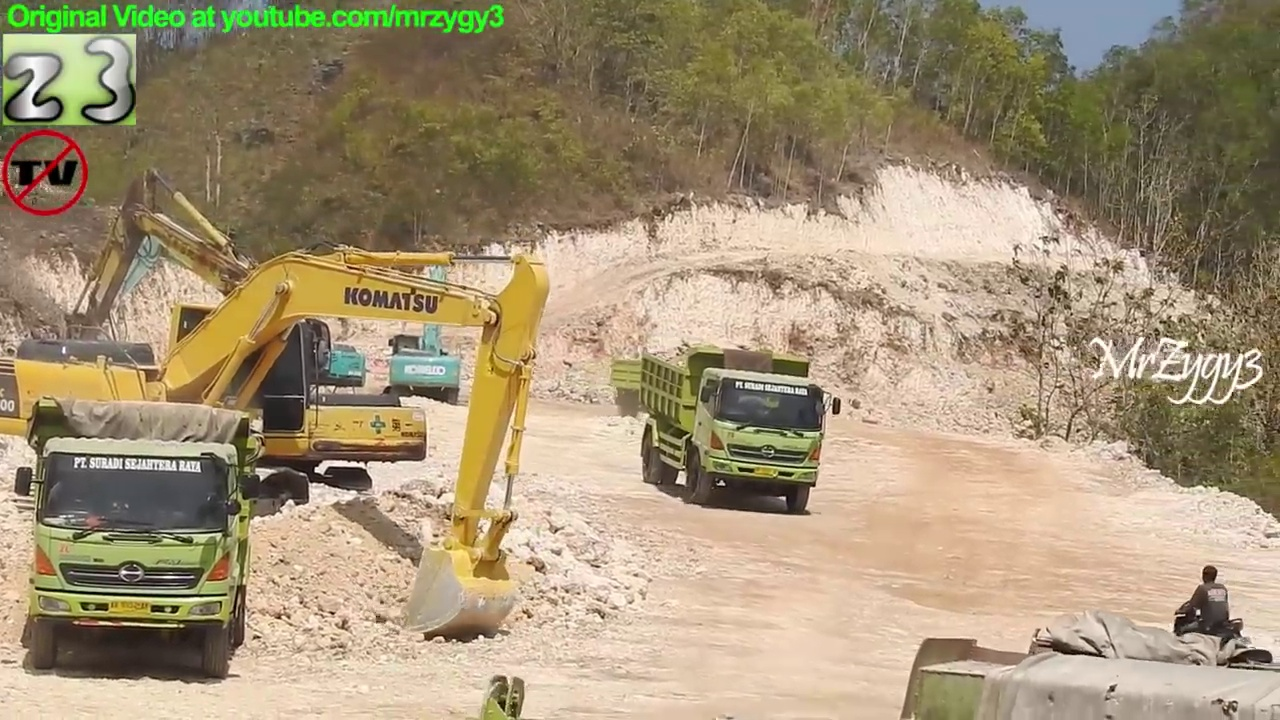excavator: (2, 236, 557, 644), (55, 162, 431, 516), (71, 221, 378, 438), (377, 257, 469, 419)
truck: (477, 610, 1280, 720), (13, 390, 267, 685), (637, 344, 843, 517), (605, 350, 717, 426)
